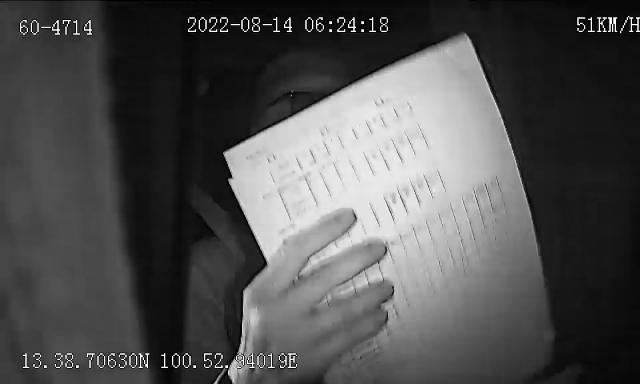Seatbelt: (197, 194, 250, 274)
